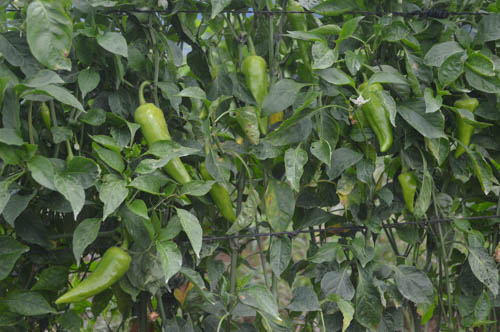ChiliPepper: (52, 249, 136, 306), (135, 101, 192, 184), (240, 55, 271, 135), (358, 84, 391, 151), (198, 164, 236, 222), (452, 99, 478, 160), (286, 9, 311, 63), (395, 173, 417, 209)
